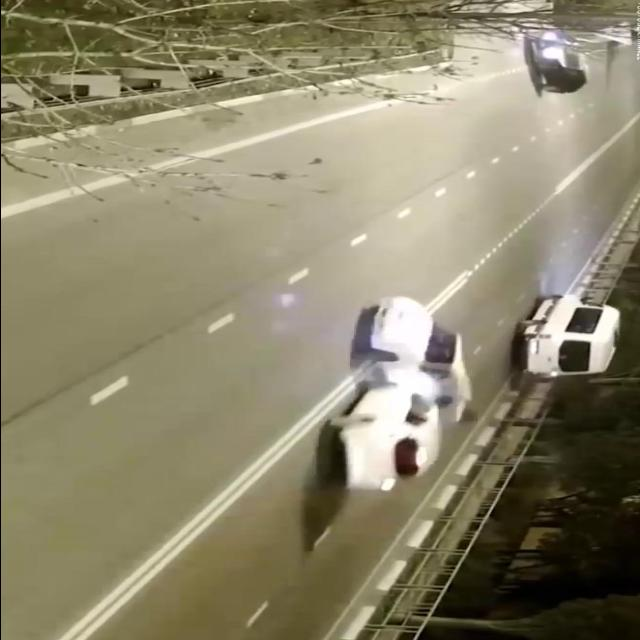accident: (280, 287, 492, 505)
